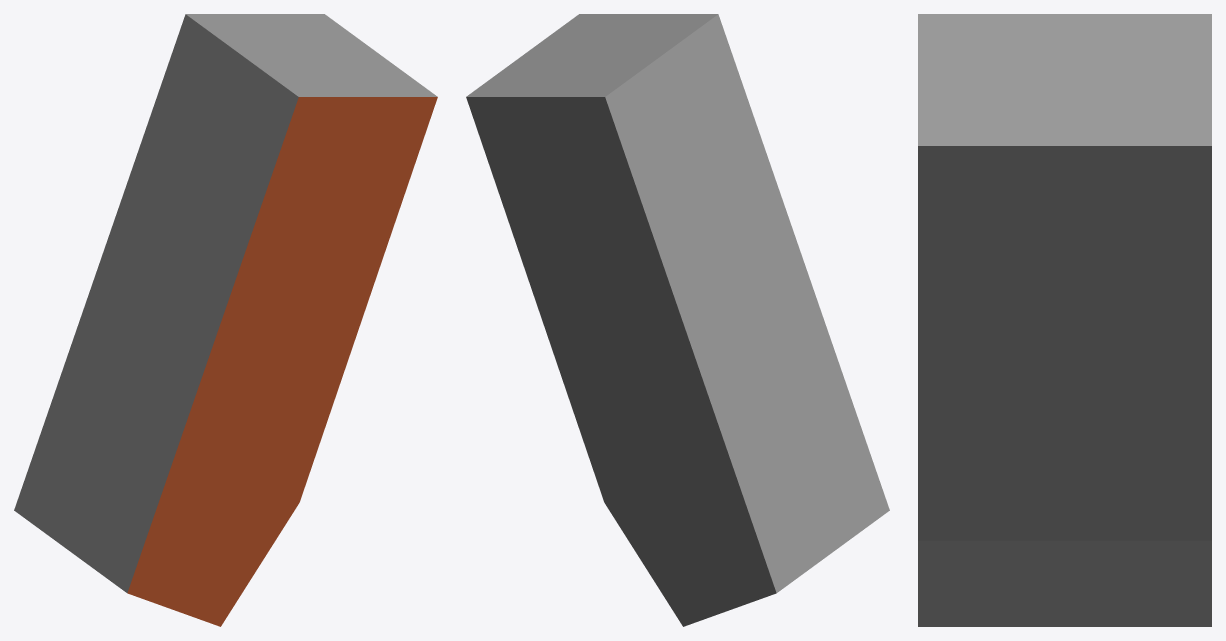
Rendered from construction_5565_assumed_A_Casa_h6m.obj.
3 renders of one model, left to right at view 1: azimuth 30°, elevation 25°; view 2: azimuth 150°, elevation 25°; view 3: azimuth 270°, elevation 25°, orthographic. The views are drawn at different scales.
Visible parts, largest first — view 1: construction_5565_assumed_A_Casa; view 2: construction_5565_assumed_A_Casa; view 3: construction_5565_assumed_A_Casa.
Boxes of the visible parts, bbox=[...] form: construction_5565_assumed_A_Casa: bbox=[14, 14, 437, 626]; construction_5565_assumed_A_Casa: bbox=[466, 14, 889, 626]; construction_5565_assumed_A_Casa: bbox=[918, 14, 1211, 626].
Size of the model in its own units: 9.5 by 14.93 by 6.
